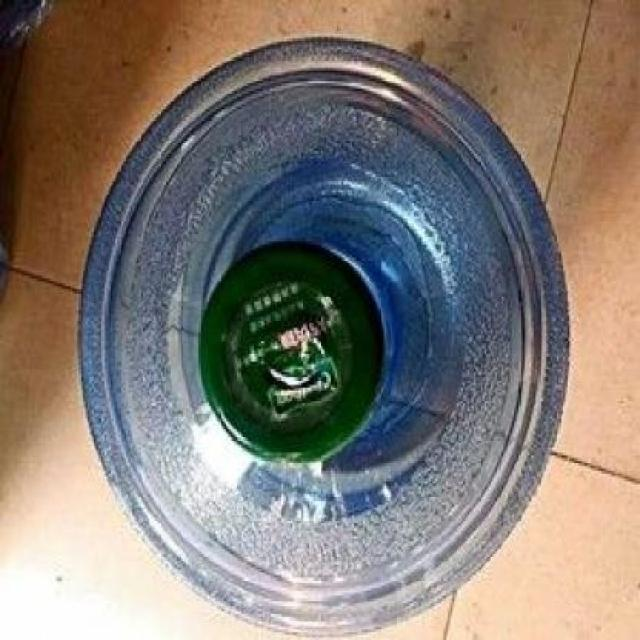coolerbottle: (74, 26, 578, 640)
